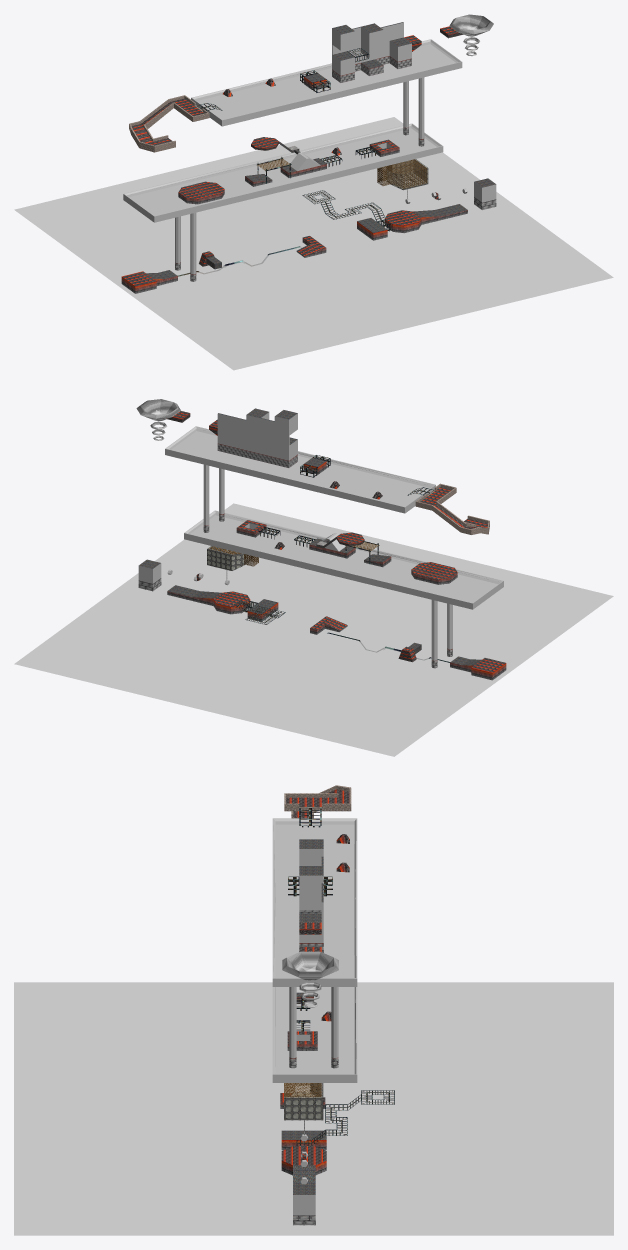
Rendered from koopa2_map_all.obj.
3 views of the same model, one above another, from view 1: azimuth 30°, elevation 25°; view 2: azimuth 150°, elevation 25°; view 3: azimuth 270°, elevation 25° (orthographic). The views are drawn at different scales.
Parts seen in each view (by area): view 1: r0; view 2: r0; view 3: r0.
Boxes of the visible parts, x1=… form: r0: x1=14, y1=14, x2=613, y2=370; r0: x1=14, y1=399, x2=613, y2=756; r0: x1=14, y1=785, x2=613, y2=1235.
Size of the model in its own units: 16 by 8.66 by 16.
